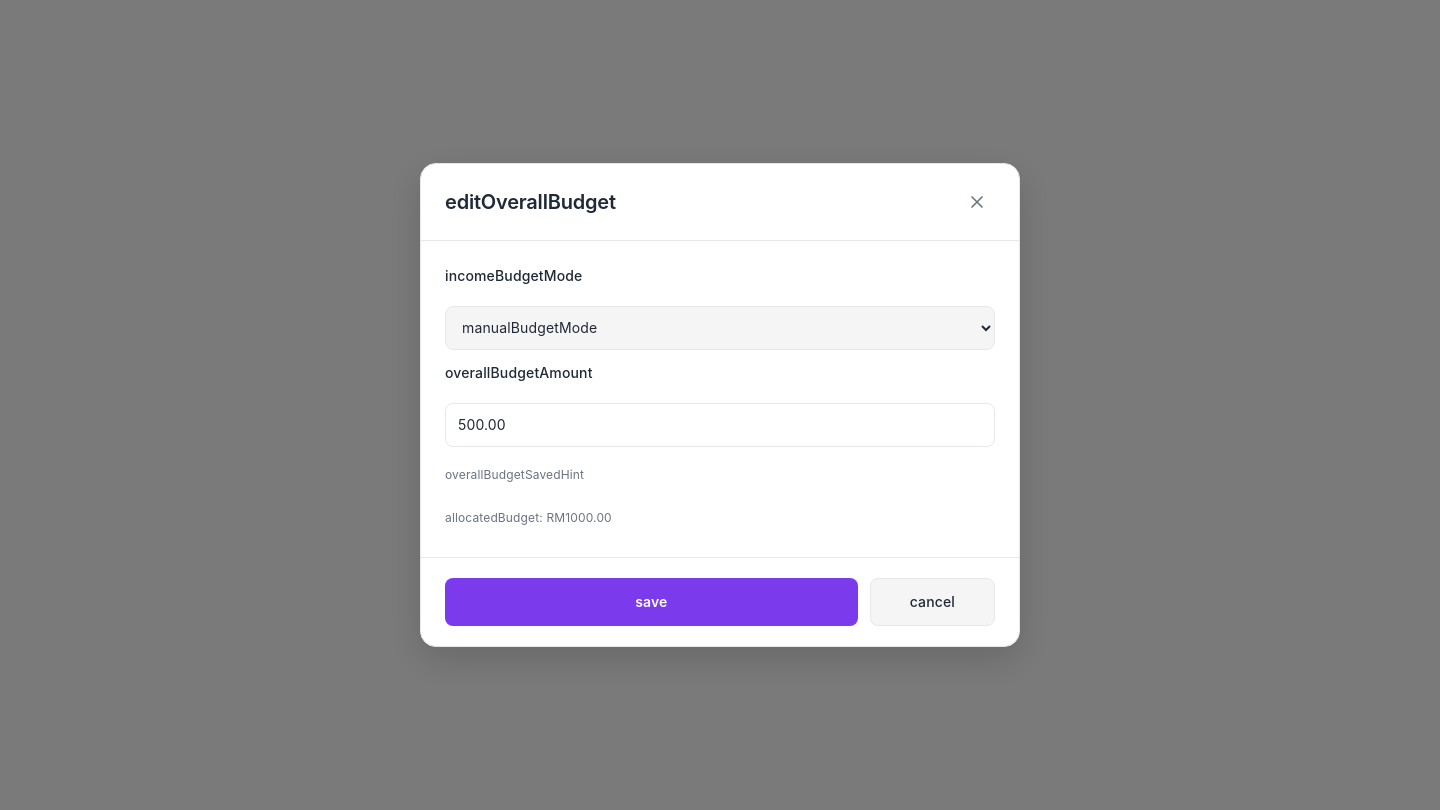
it: income budget settings dialog › keeps the dialog open and explains local storage failure
This screenshot has width=1440, height=810.
Step 1. Select "incomeLinkedBudgetMode" in the dropdown labelled "incomeBudgetMode" → x=720, y=328, box left=445, top=306, right=995, bottom=350
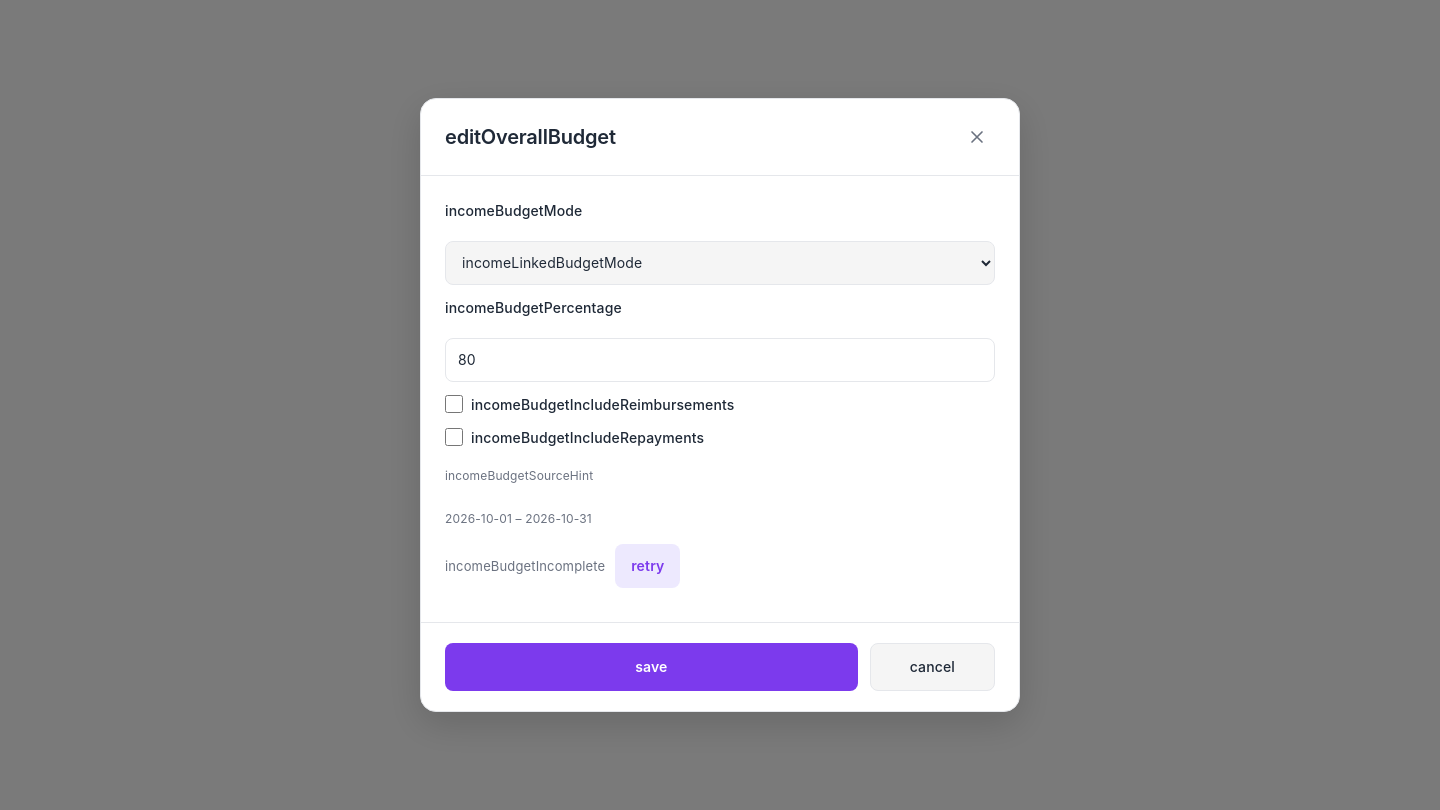
Step 2. Submit the text "save", box left=420, top=98, right=1020, bottom=712
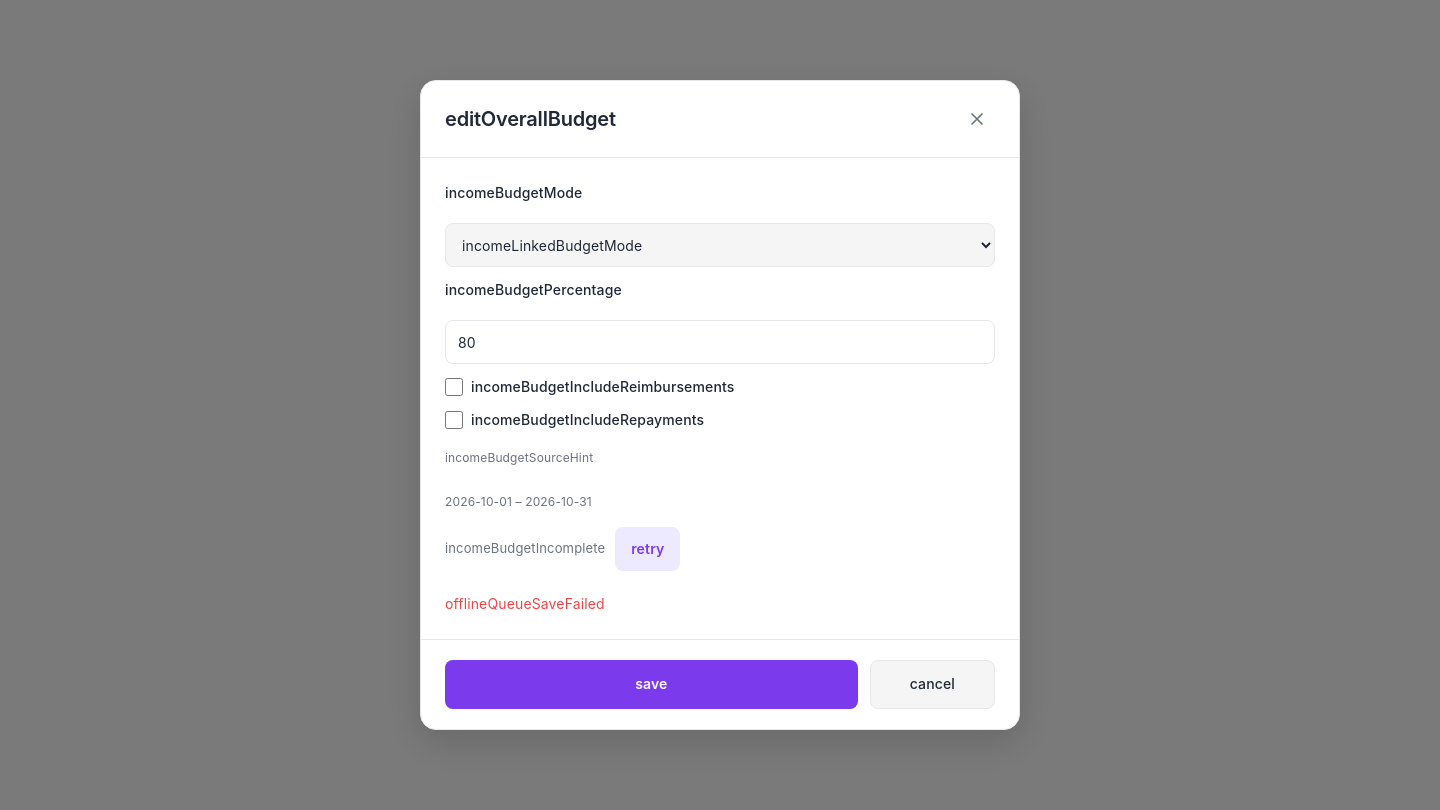
expect the message "offlineQueueSaveFailed" is shown: met, box left=445, top=595, right=605, bottom=612
